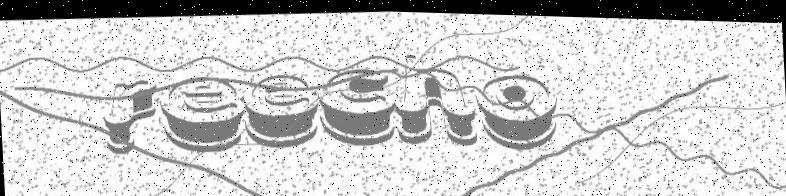c: (315, 59, 400, 152)
e: (158, 74, 246, 152), (245, 67, 321, 153)
h: (395, 45, 481, 149)
o: (475, 62, 565, 151)
r: (97, 77, 163, 155)
